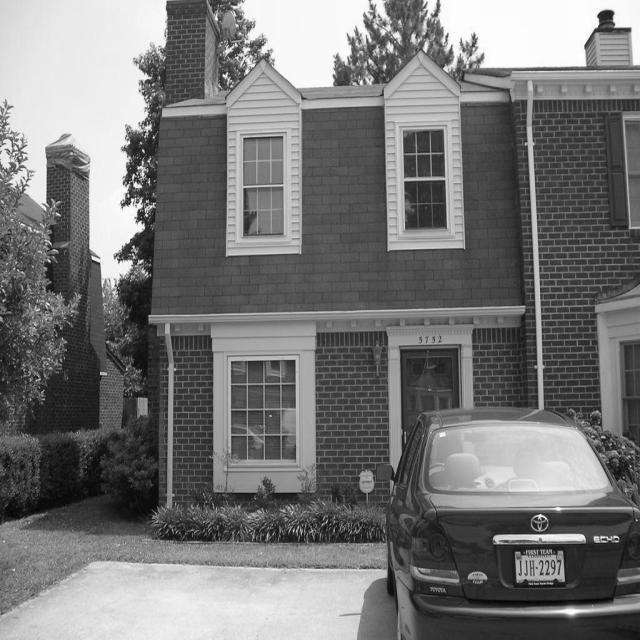plate: (512, 549, 566, 586)
